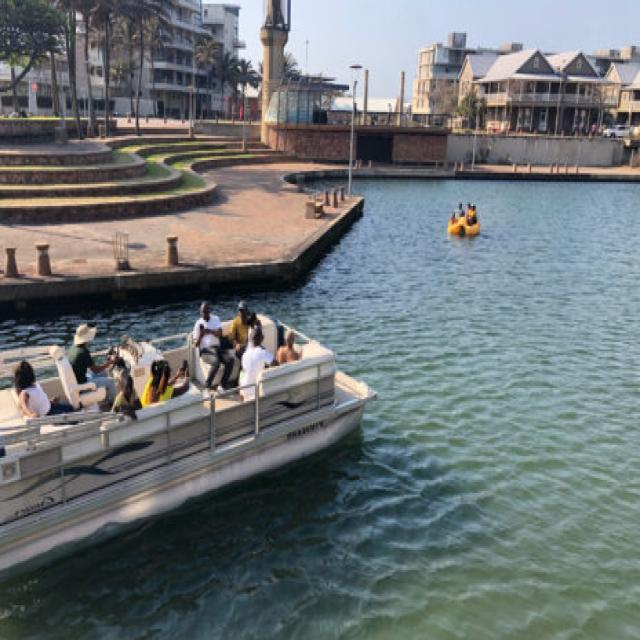passenger ship: (0, 300, 400, 588)
